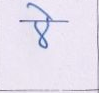e_matra: (27, 3, 54, 20)
